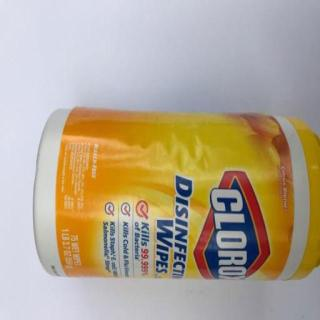Plastic-bottle: (33, 106, 320, 282)
